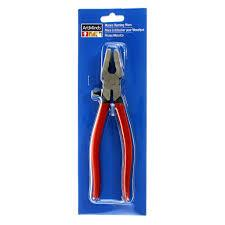pliers: (90, 46, 133, 202)
